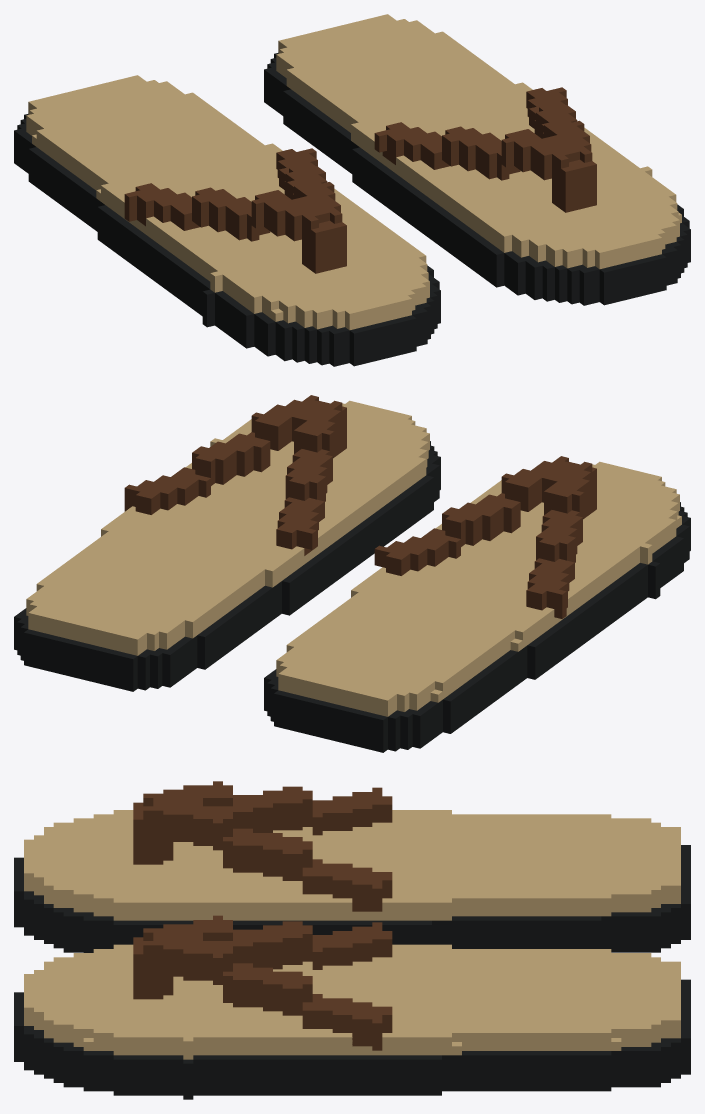
The model's file is flip_flops_exp.glb.
3 views of the same model, one above another, from view 1: azimuth 30°, elevation 25°; view 2: azimuth 150°, elevation 25°; view 3: azimuth 270°, elevation 25° (orthographic). The views are drawn at different scales.
Visible parts, largest first — view 1: flip_flops_exp:compound; view 2: flip_flops_exp:compound; view 3: flip_flops_exp:compound.
Boxes of the visible parts, <box> form: flip_flops_exp:compound: <box>14,14,690,366</box>; flip_flops_exp:compound: <box>14,395,690,752</box>; flip_flops_exp:compound: <box>14,781,690,1099</box>.
Size of the model in its own units: 0.232 by 0.048 by 0.272.
